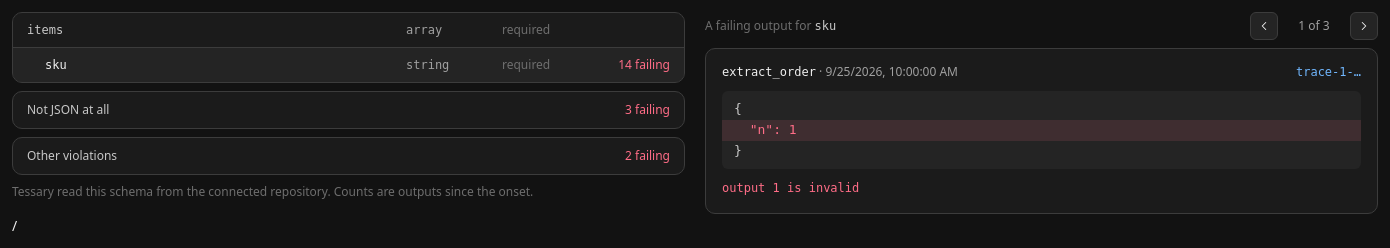
Test: HowOutputsBroke › reads the outputs of the bucket selected, from the start, and names what it shows
The image size is (1390, 248).
Expected: the text "output 1 is invalid" is shown, [722, 181, 859, 195]
Click the button named "Next output" at (1364, 26), box [1350, 12, 1378, 40]
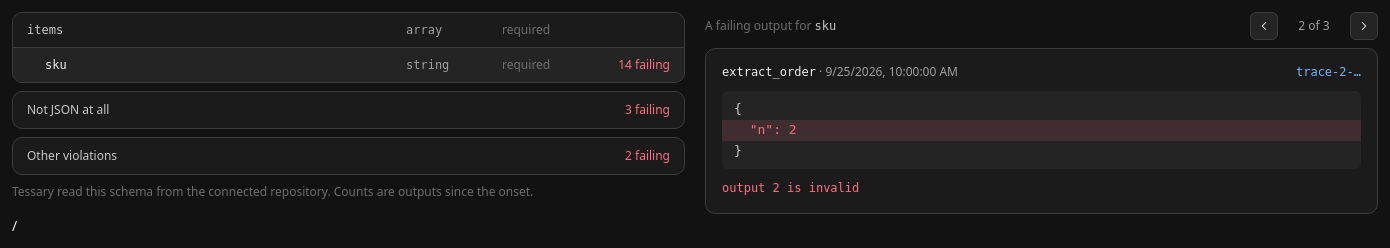
Now the text "output 2 is invalid" is shown, box [722, 181, 859, 195]
Click the button "Not JSON at all 3 failing" at (68, 110), box [12, 91, 685, 129]
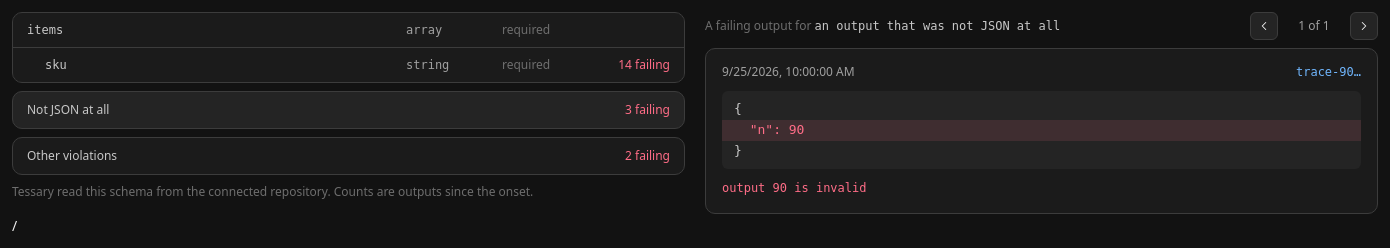
Now the text "output 90 is invalid" is shown, box [722, 181, 866, 195]
Now the text "an output that was not JSON at all" is shown, box [815, 19, 1060, 33]
Now the text "1 of 1" is shown, box [1298, 17, 1330, 34]
Click the button "Other violations 2 failing" at (72, 156), box [12, 137, 685, 175]
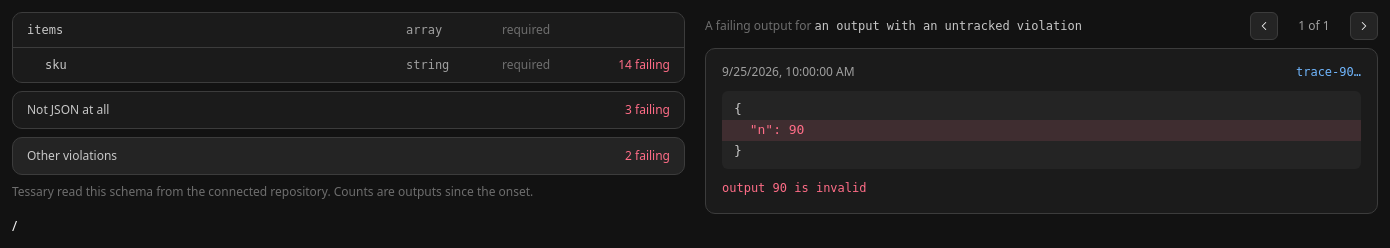
Now the text "an output with an untracked violation" is shown, box [815, 19, 1082, 33]
Click the button "items array required" at (45, 30), box [13, 13, 684, 47]
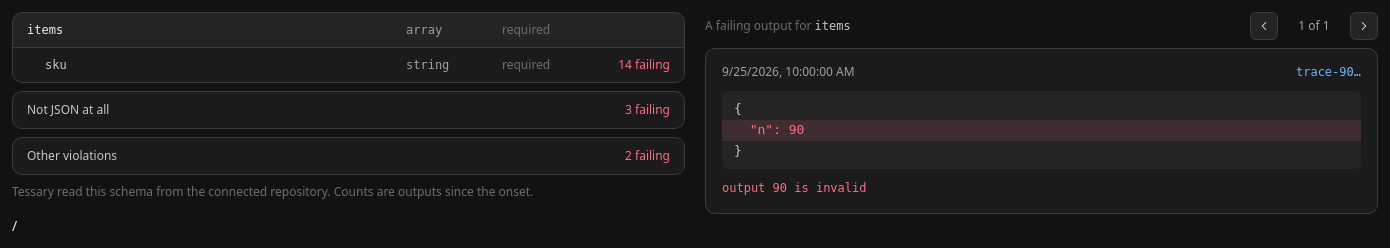
Now the text "items" next to "A failing output for" is shown, box [815, 19, 851, 33]
